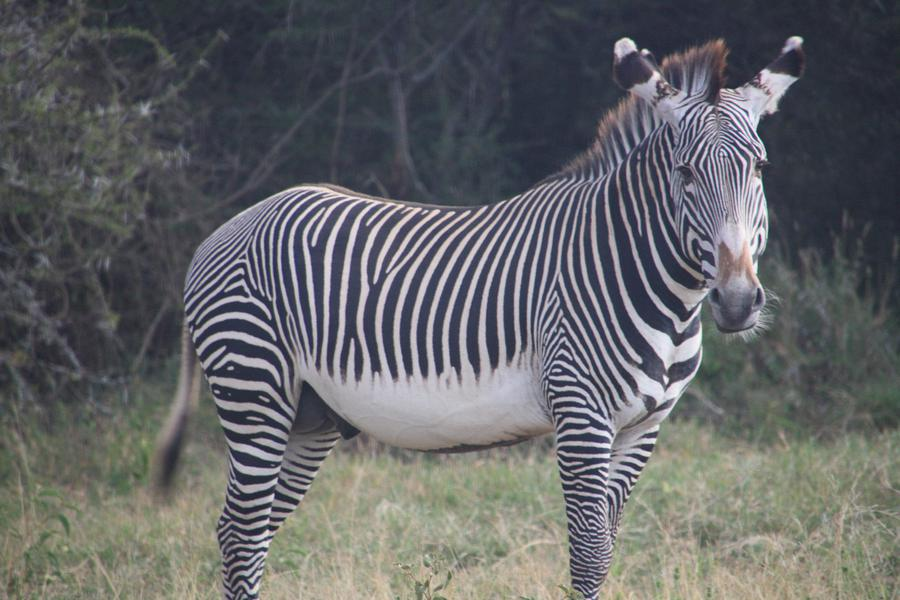zebra_grevys: (197, 165, 647, 412)
